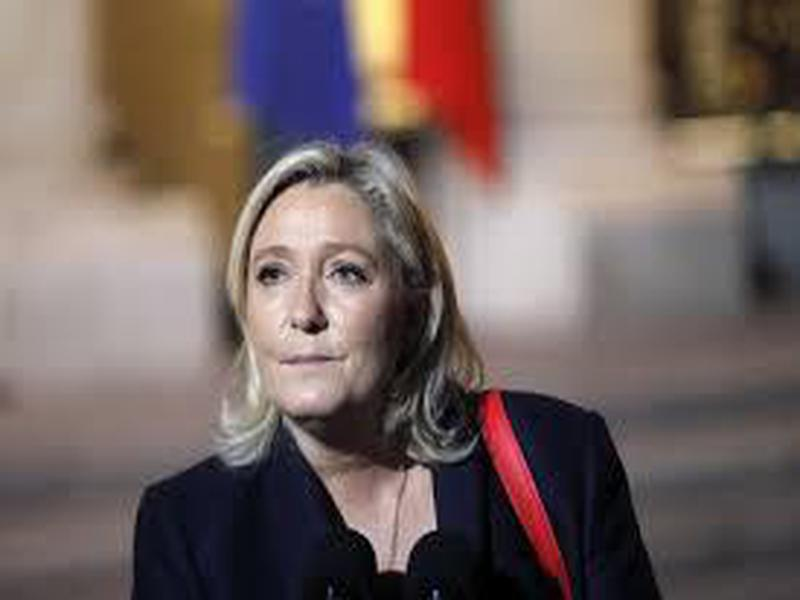without_mask: (248, 223, 391, 421)
